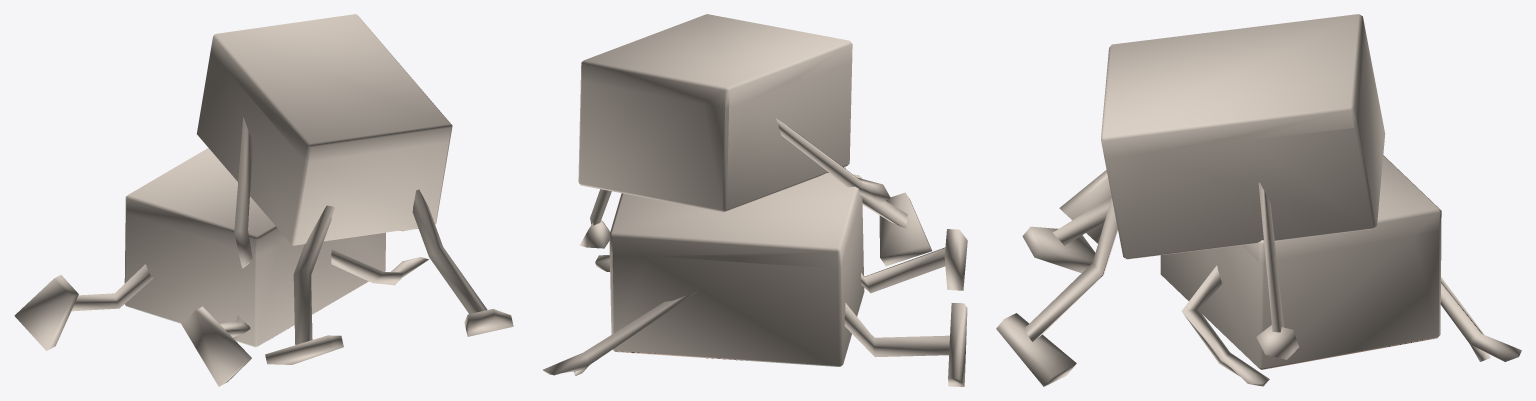
The model's file is COPY.BIN.obj.
3 renders of one model, left to right at view 1: azimuth 30°, elevation 25°; view 2: azimuth 150°, elevation 25°; view 3: azimuth 270°, elevation 25°, orthographic. The views are drawn at different scales.
Size of the model in its own units: 3.87 by 2.45 by 3.94.
